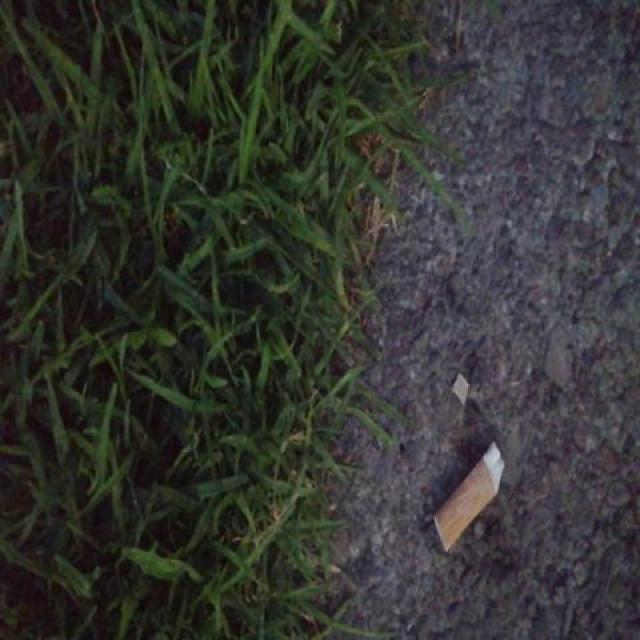non-organic waste: (431, 438, 508, 558)
